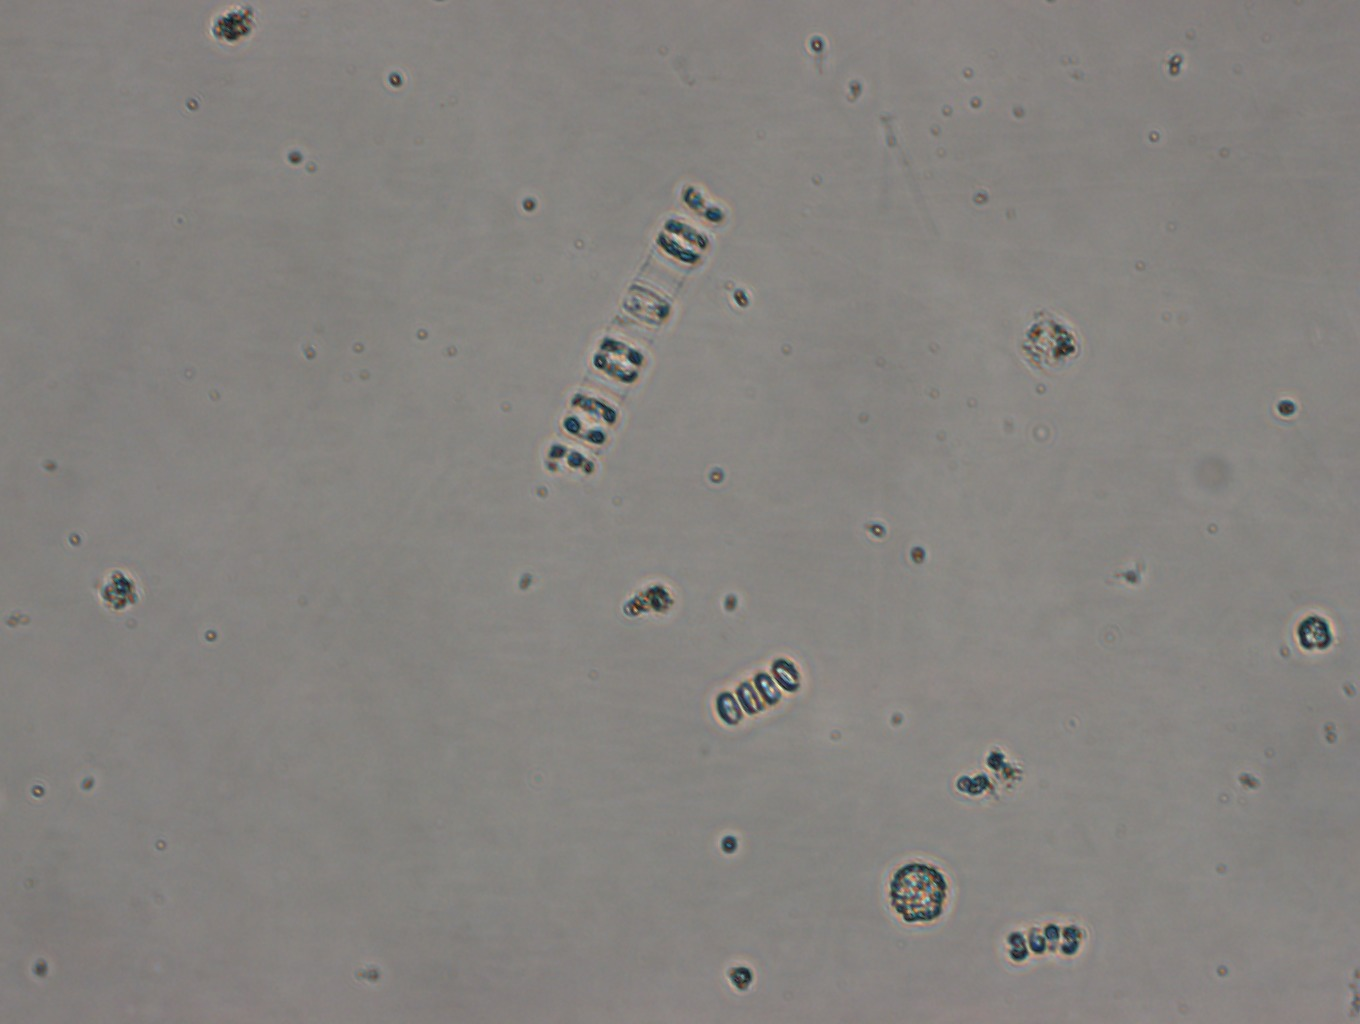skeletonema: (542, 175, 729, 488), (713, 655, 802, 730), (1001, 923, 1089, 963)
